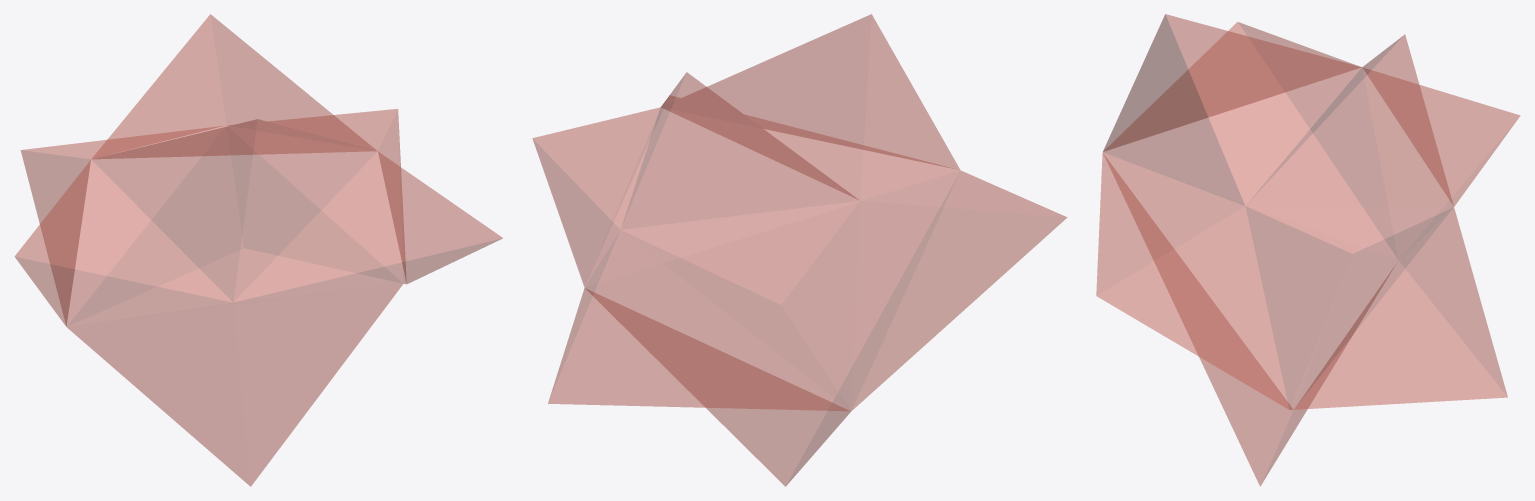
Rendered from gem.fbx.
3 renders of one model, left to right at view 1: azimuth 30°, elevation 25°; view 2: azimuth 150°, elevation 25°; view 3: azimuth 270°, elevation 25°, orthographic. The views are drawn at different scales.
Visible parts, largest first — view 1: gem; view 2: gem; view 3: gem.
Boxes of the visible parts, box(x1,y1,x2,y2) form: gem: box(14, 14, 502, 486); gem: box(532, 14, 1067, 486); gem: box(1096, 14, 1520, 486).
Size of the model in its own units: 1.39 by 1.28 by 1.05.
